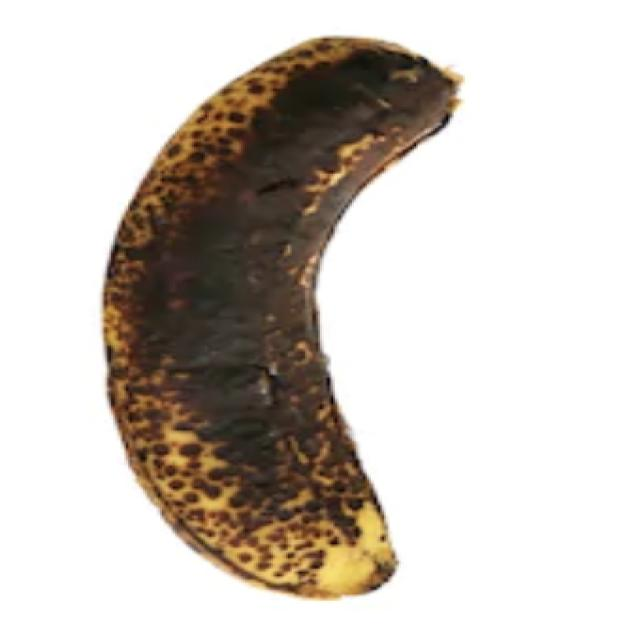rotten-banana: (98, 33, 463, 600)
